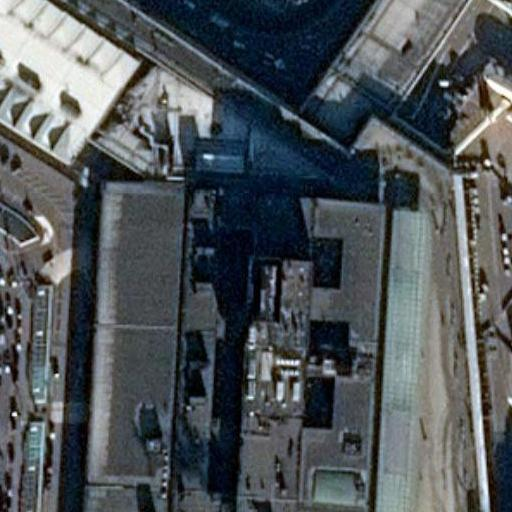Aircraft: (476, 60, 512, 178), (503, 345, 512, 507)
